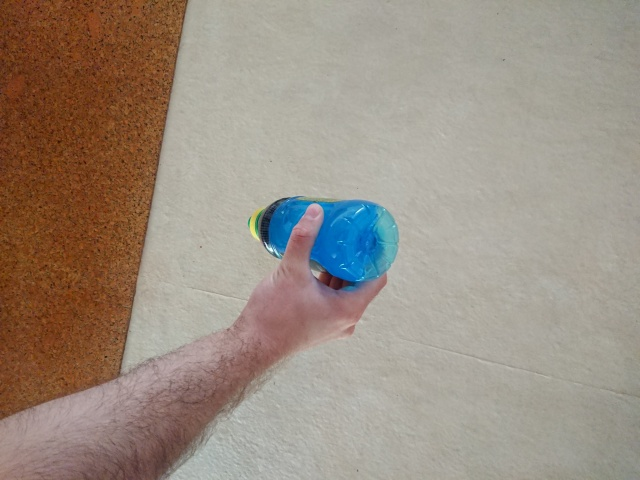Vindi Iso Sport Forest Strawberries 500mL: (245, 193, 400, 284)
